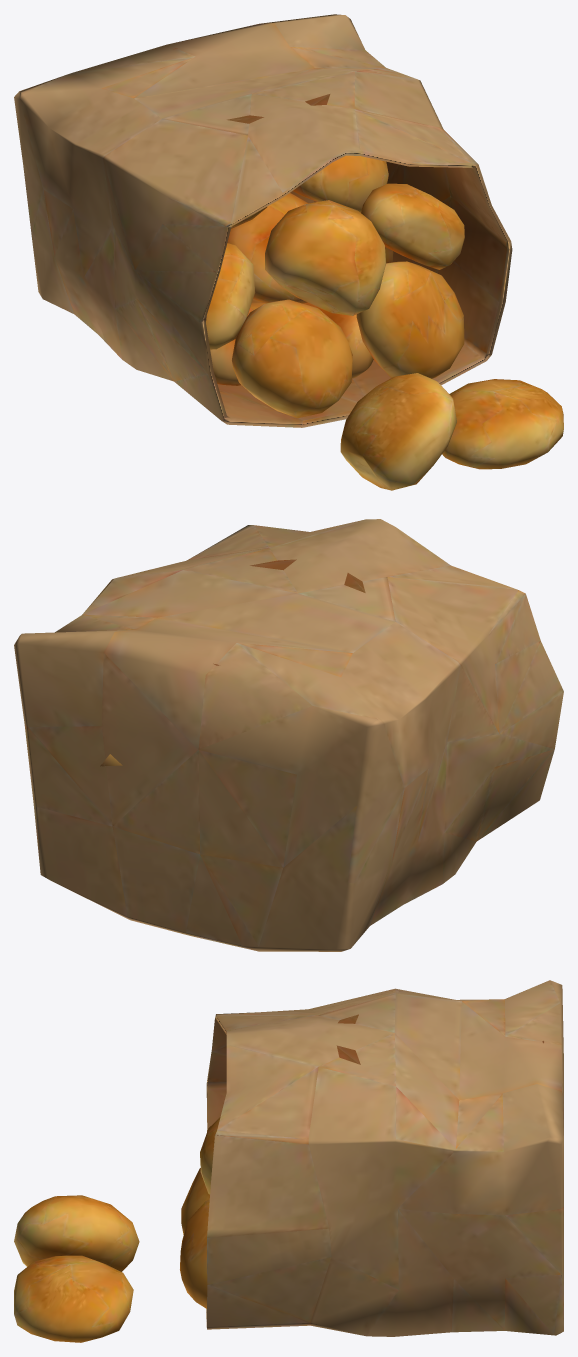
File: pandesal.glb
The picture shows the model from 3 angles, top to bottom: view 1: azimuth 30°, elevation 25°; view 2: azimuth 150°, elevation 25°; view 3: azimuth 270°, elevation 25°; orthographic projection. The views are drawn at different scales.
Visible parts, largest first — view 1: geometry_0; view 2: geometry_0; view 3: geometry_0.
Boxes of the visible parts, bbox=[...] form: geometry_0: bbox=[14, 14, 563, 490]; geometry_0: bbox=[14, 519, 563, 951]; geometry_0: bbox=[14, 980, 563, 1342].
Bounding box in the file's own units: 0.6867 × 0.5467 × 1.
1 material, 1 textured.
